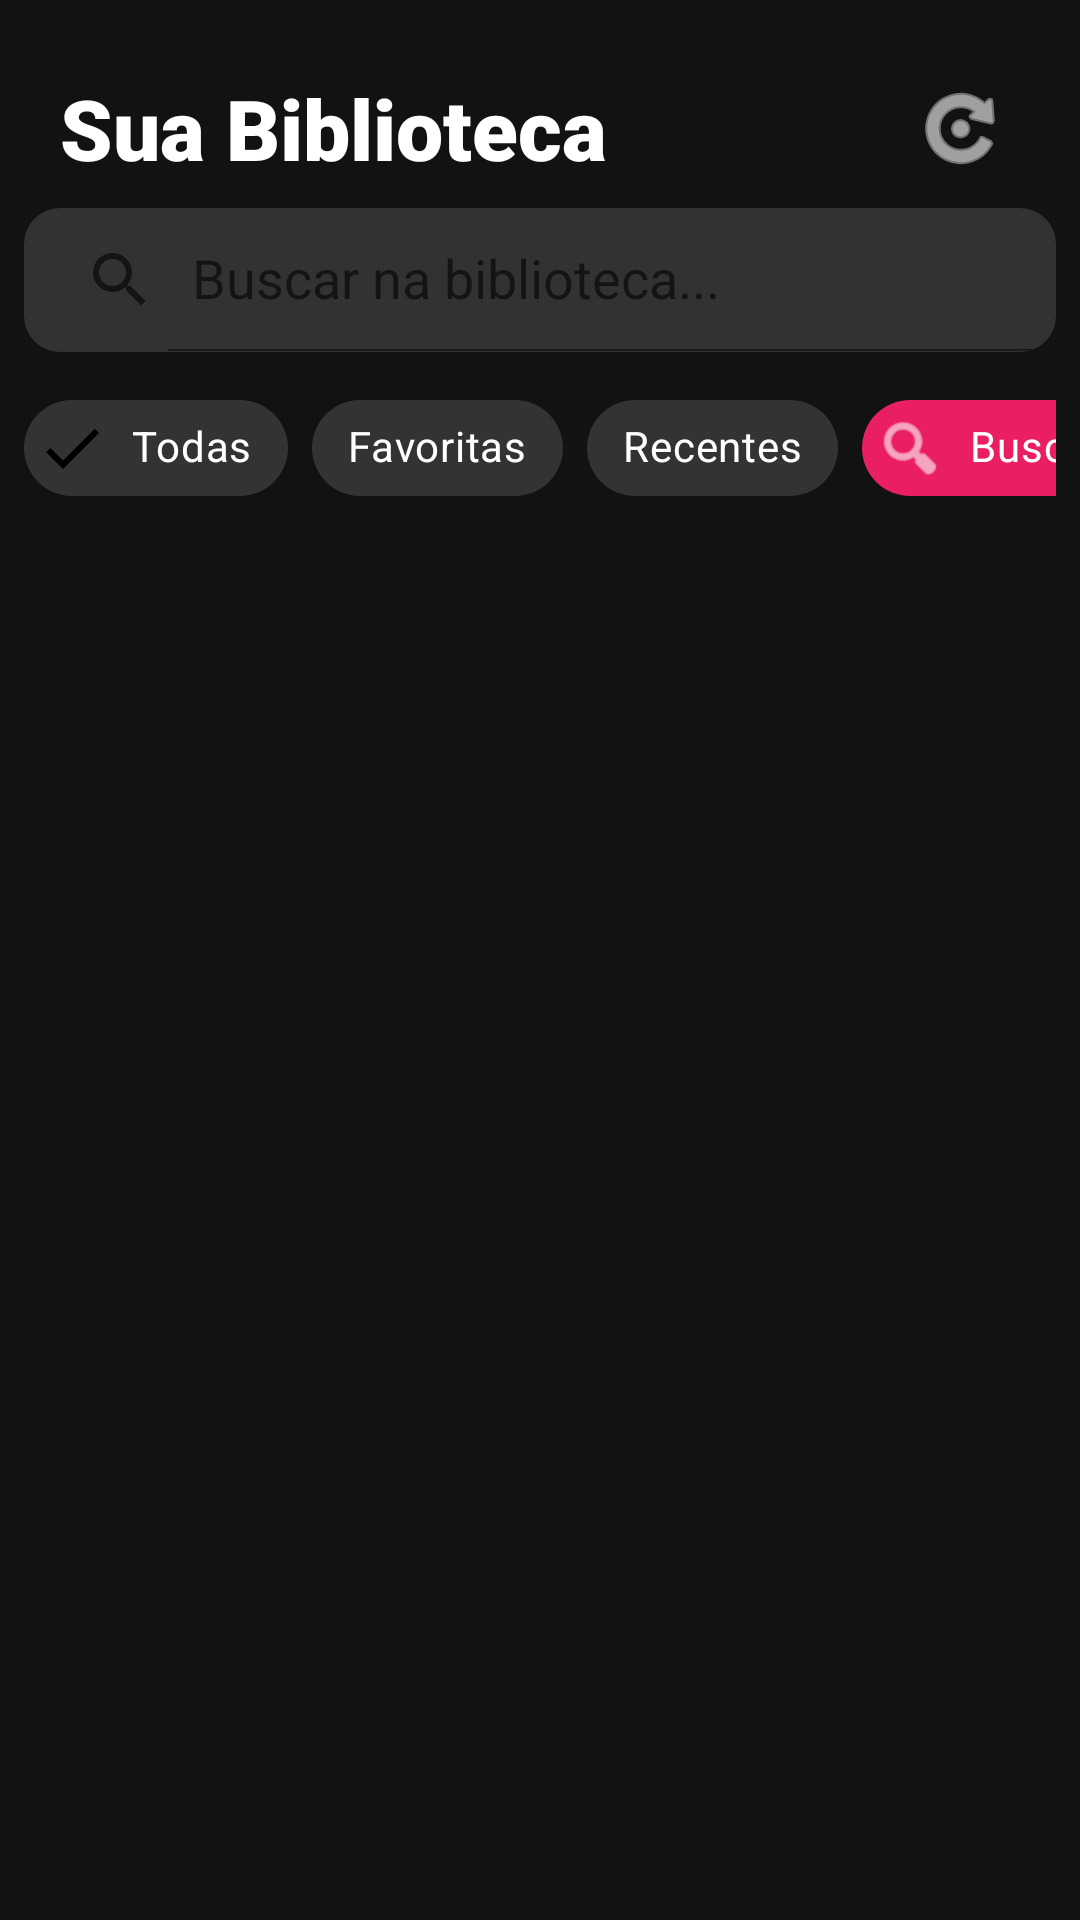

Screen size 1080x1920. Icon name, then its box in pixels as (x1, y1, x2, y2):
rotate: (925, 93, 995, 164)
